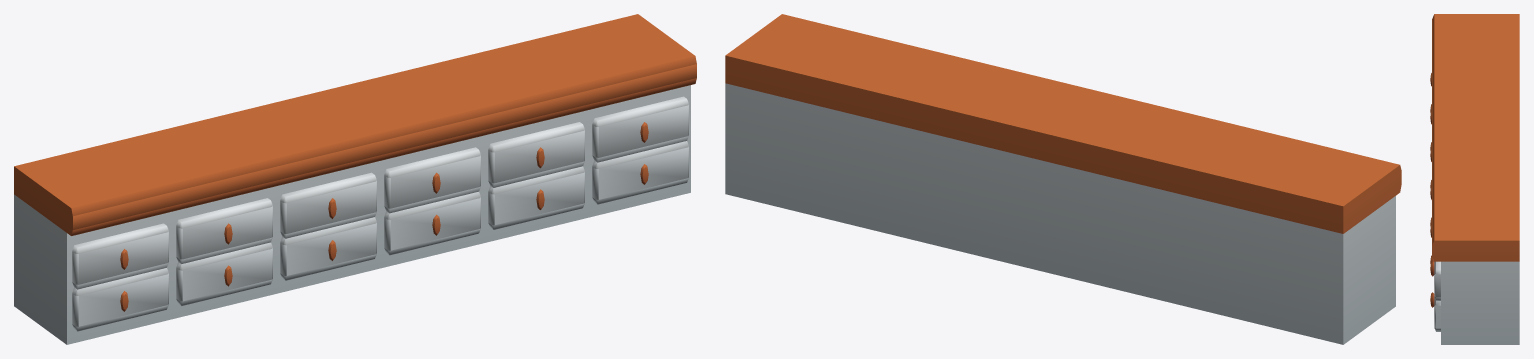
File: counter-run.glb
3 views of the same model, side by side, from view 1: azimuth 30°, elevation 25°; view 2: azimuth 150°, elevation 25°; view 3: azimuth 270°, elevation 25° (orthographic). The views are drawn at different scales.
Visible parts, largest first — view 1: Kitchen_Base_Module_0, Kitchen_Base_Module_4, Kitchen_Base_Module_1, Kitchen_Base_Module_2, Kitchen_Base_Module_3, Kitchen_Base_Module_5; view 2: Kitchen_Base_Module_0, Kitchen_Base_Module_1, Kitchen_Base_Module_3, Kitchen_Base_Module_5, Kitchen_Base_Module_2, Kitchen_Base_Module_4; view 3: Kitchen_Base_Module_5, Kitchen_Base_Module_3, Kitchen_Base_Module_1, Kitchen_Base_Module_2, Kitchen_Base_Module_4, Kitchen_Base_Module_0.
Boxes of the visible parts, x1=… form: Kitchen_Base_Module_0: x1=14, y1=141, x2=176, y2=344; Kitchen_Base_Module_4: x1=430, y1=39, x2=592, y2=243; Kitchen_Base_Module_1: x1=118, y1=115, x2=280, y2=319; Kitchen_Base_Module_2: x1=222, y1=90, x2=384, y2=293; Kitchen_Base_Module_3: x1=326, y1=65, x2=488, y2=268; Kitchen_Base_Module_5: x1=534, y1=14, x2=696, y2=217; Kitchen_Base_Module_0: x1=1240, y1=139, x2=1401, y2=344; Kitchen_Base_Module_1: x1=1137, y1=114, x2=1296, y2=319; Kitchen_Base_Module_3: x1=931, y1=64, x2=1090, y2=269; Kitchen_Base_Module_5: x1=725, y1=14, x2=884, y2=218; Kitchen_Base_Module_2: x1=1034, y1=89, x2=1193, y2=294; Kitchen_Base_Module_4: x1=828, y1=39, x2=987, y2=244; Kitchen_Base_Module_5: x1=1430, y1=203, x2=1519, y2=344; Kitchen_Base_Module_3: x1=1430, y1=127, x2=1519, y2=226; Kitchen_Base_Module_1: x1=1430, y1=51, x2=1519, y2=150; Kitchen_Base_Module_2: x1=1430, y1=89, x2=1519, y2=188; Kitchen_Base_Module_4: x1=1430, y1=165, x2=1519, y2=263; Kitchen_Base_Module_0: x1=1430, y1=14, x2=1519, y2=112.
Bounding box in the file's own units: 4.2 × 0.9 × 0.7.
6 materials, 6 textured.
